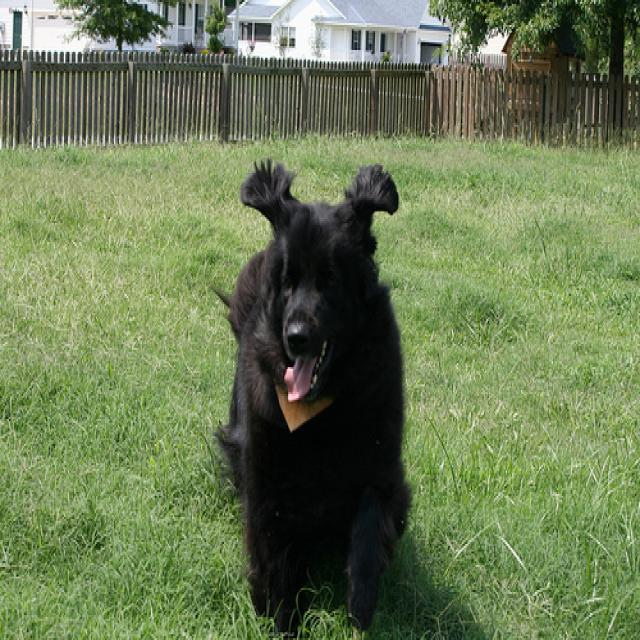dog-newfoundland: (206, 150, 416, 636)
